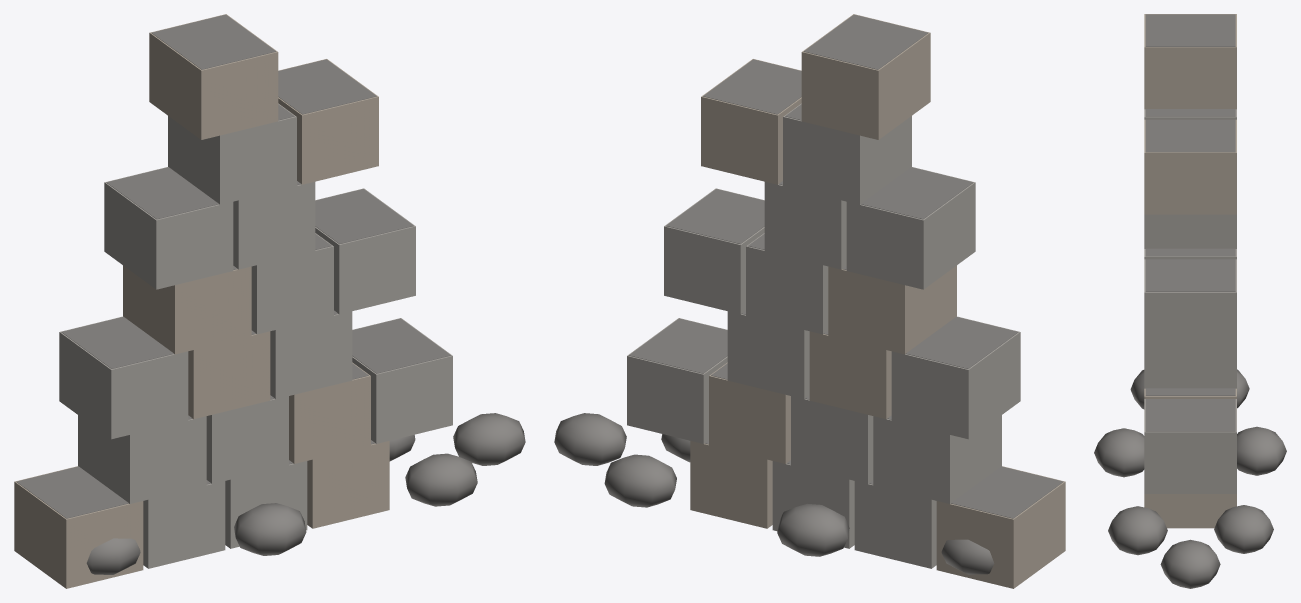
Rendered from ruin_wall.fbx.
3 renders of one model, left to right at view 1: azimuth 30°, elevation 25°; view 2: azimuth 150°, elevation 25°; view 3: azimuth 270°, elevation 25°, orthographic. The views are drawn at different scales.
Parts seen in each view (by area): view 1: RuinWall; view 2: RuinWall; view 3: RuinWall.
Part boxes in pixels (box(x1,y1,x2,y2)): RuinWall: box(14, 14, 525, 588); RuinWall: box(554, 14, 1065, 588); RuinWall: box(1094, 14, 1286, 588).
Bounding box in the file's own units: 3.65 × 3.51 × 1.42.
